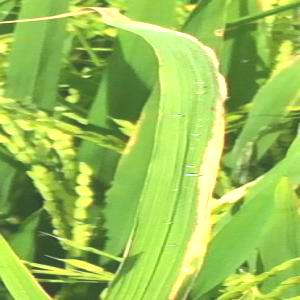2 BacterialBlight: (146, 68, 228, 297)
